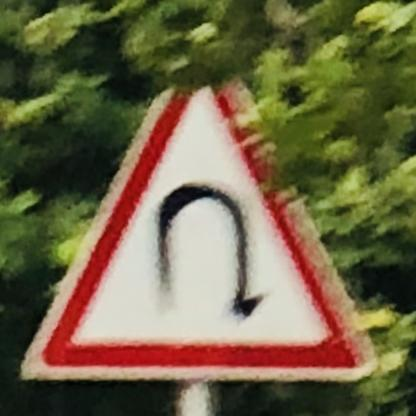U-Turn: (20, 74, 383, 385)
